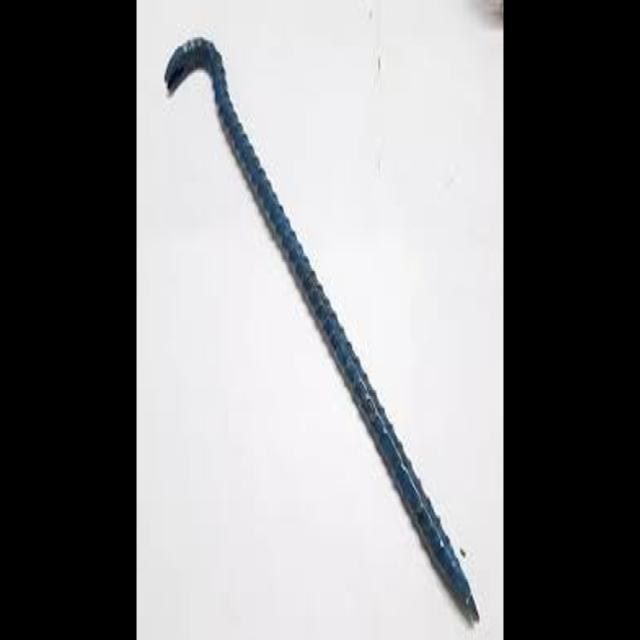Linggis: (156, 28, 486, 633)
